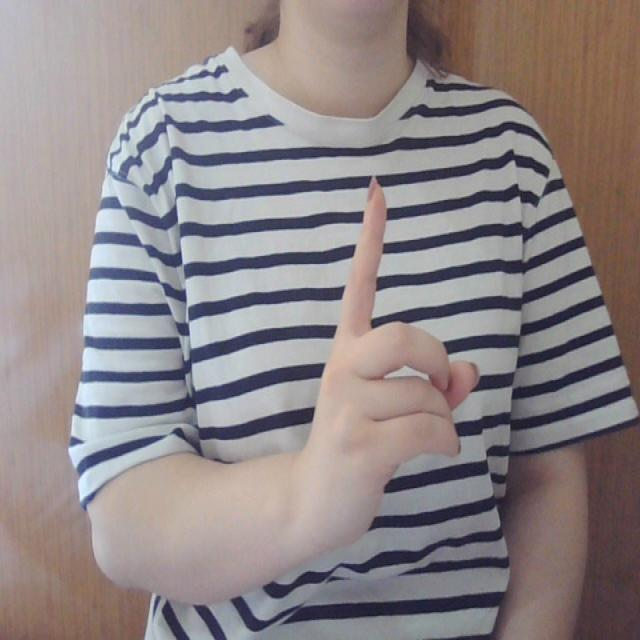Hayir: (310, 160, 490, 573)
